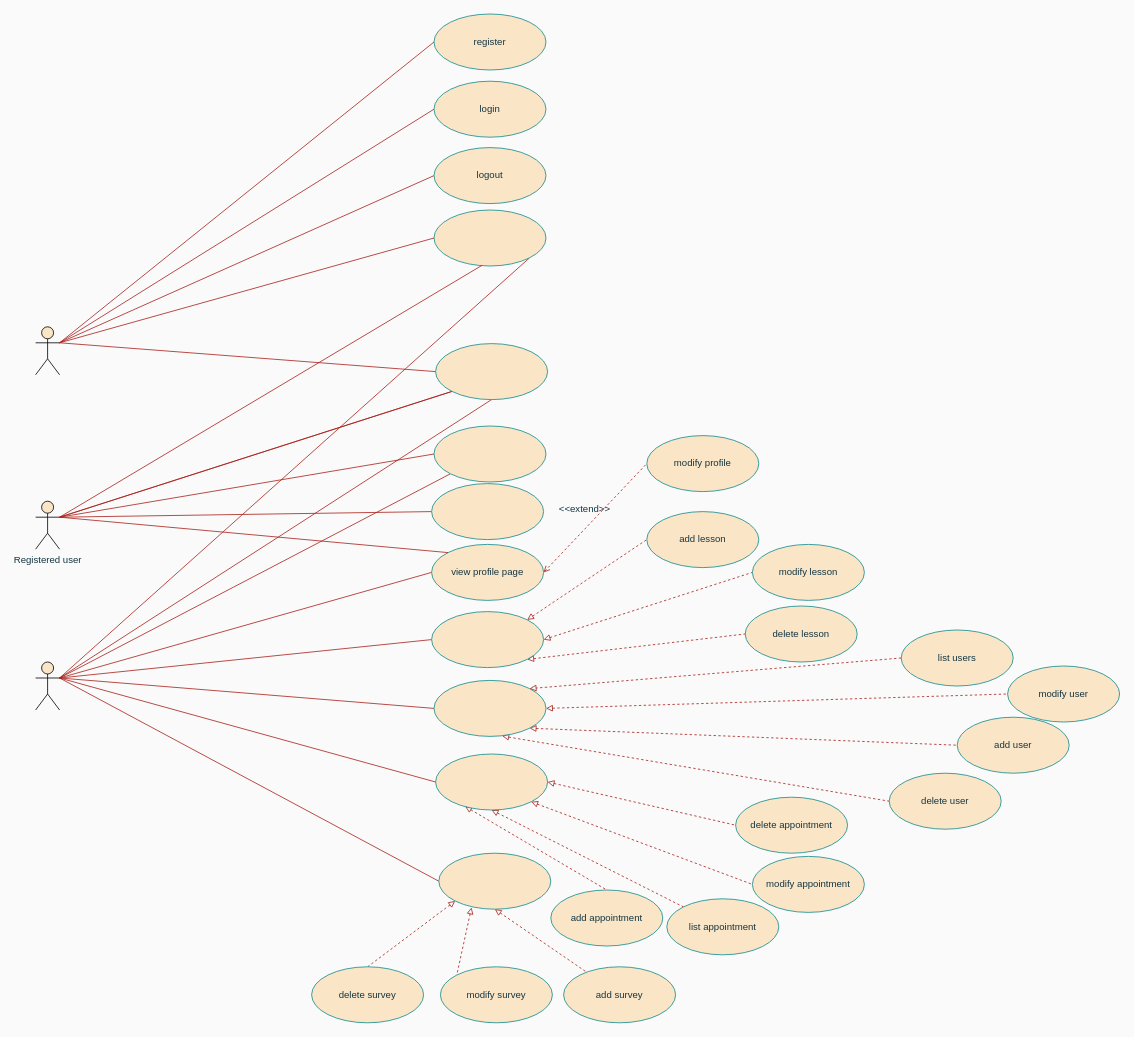
Image size: 1134x1037. Some labels were removed from this diagram. The shapes that lost their labels are listed below. From the top down, each one's centre as x and y in pixels, then its label:
At [489,237]: "view introductory page".
At [47,350]: "Visitor".
At [491,371]: "view surveys page".
At [489,453]: "view lessons page".
At [487,511]: "appointment booking".
At [487,639]: "edit lessons".
At [47,685]: "Admin user".
At [489,708]: "manage users".
At [491,781]: "manage appointment bookings".
At [494,880]: "manage surveys".
